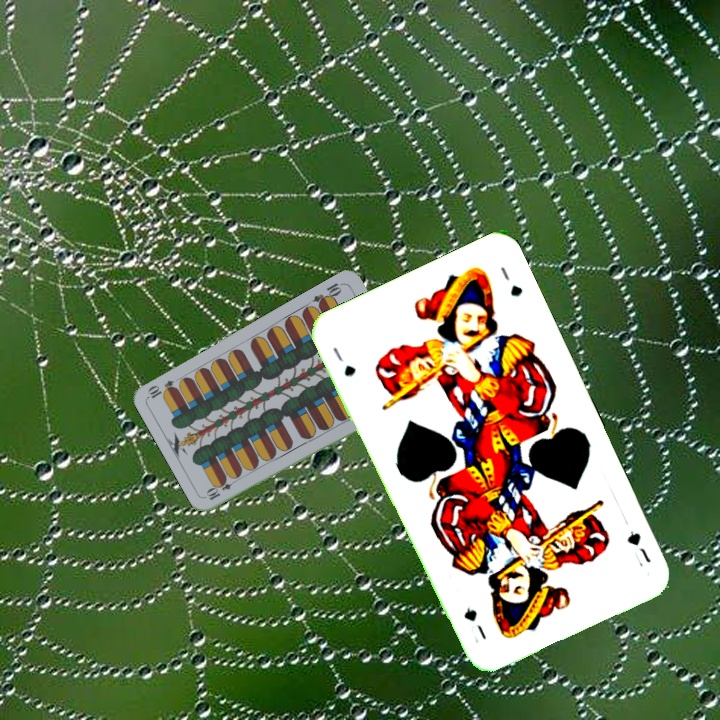E10: (309, 279, 346, 310), (202, 474, 240, 503)
GU: (623, 527, 654, 566), (328, 343, 359, 380)
